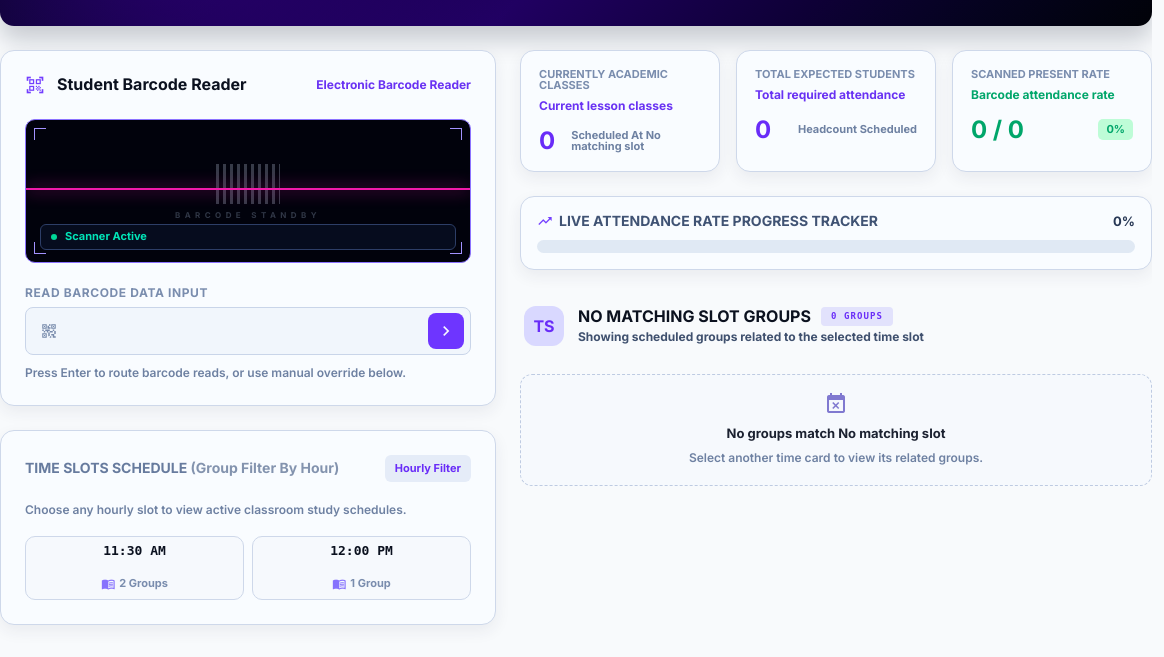
it: TenantAttendanceComponent › keeps two different groups with the selected 11:30 AM start time visible
(page scrolled)
Click the button "11:30 AM 2 Groups": (134, 568) top-left (25, 536), bottom-right (244, 600)
(page scrolled)
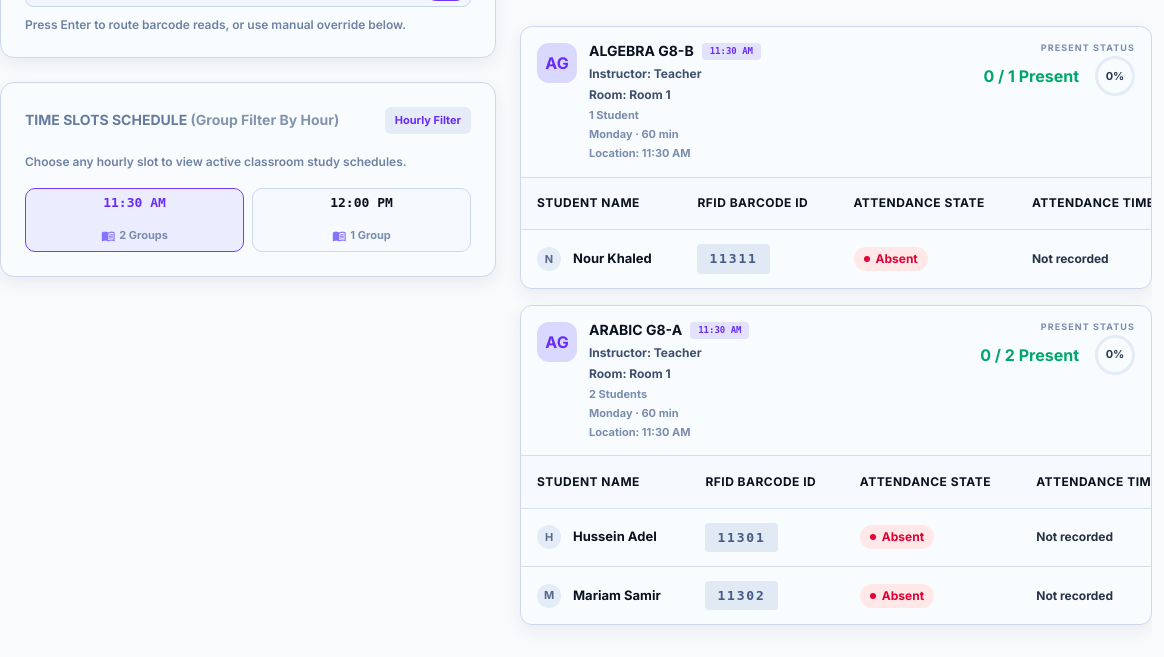
Result: the element named "Groups related to selected time slot" shows "Arabic G8-A" at top-left (589, 321), bottom-right (682, 338)
Result: the element named "Groups related to selected time slot" shows "Algebra G8-B" at top-left (589, 42), bottom-right (694, 59)
